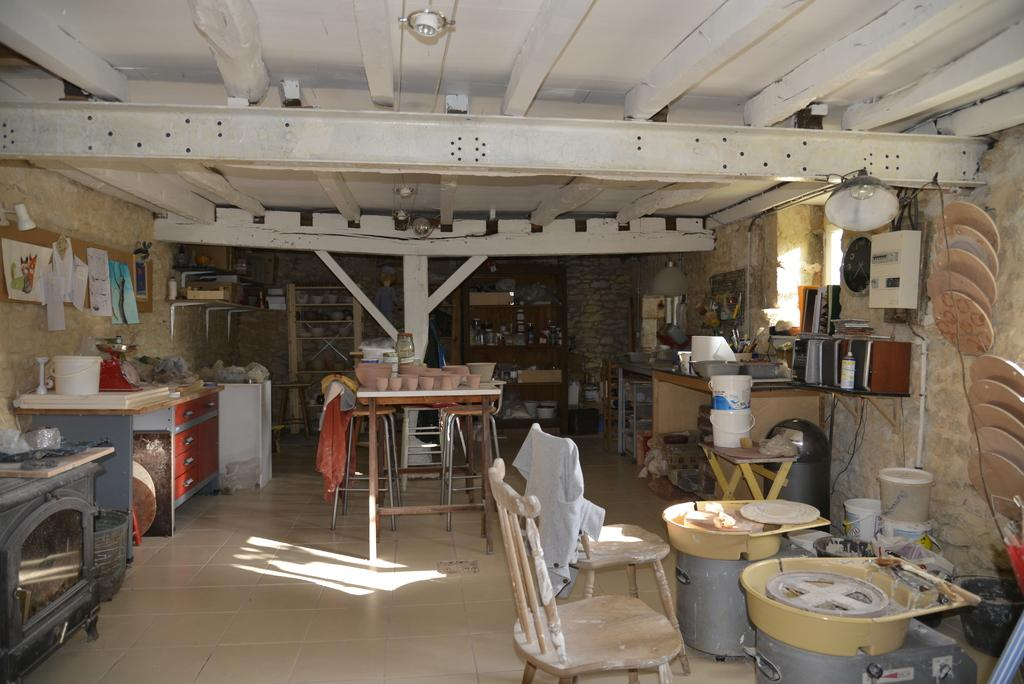Chair: (486, 457, 690, 683)
